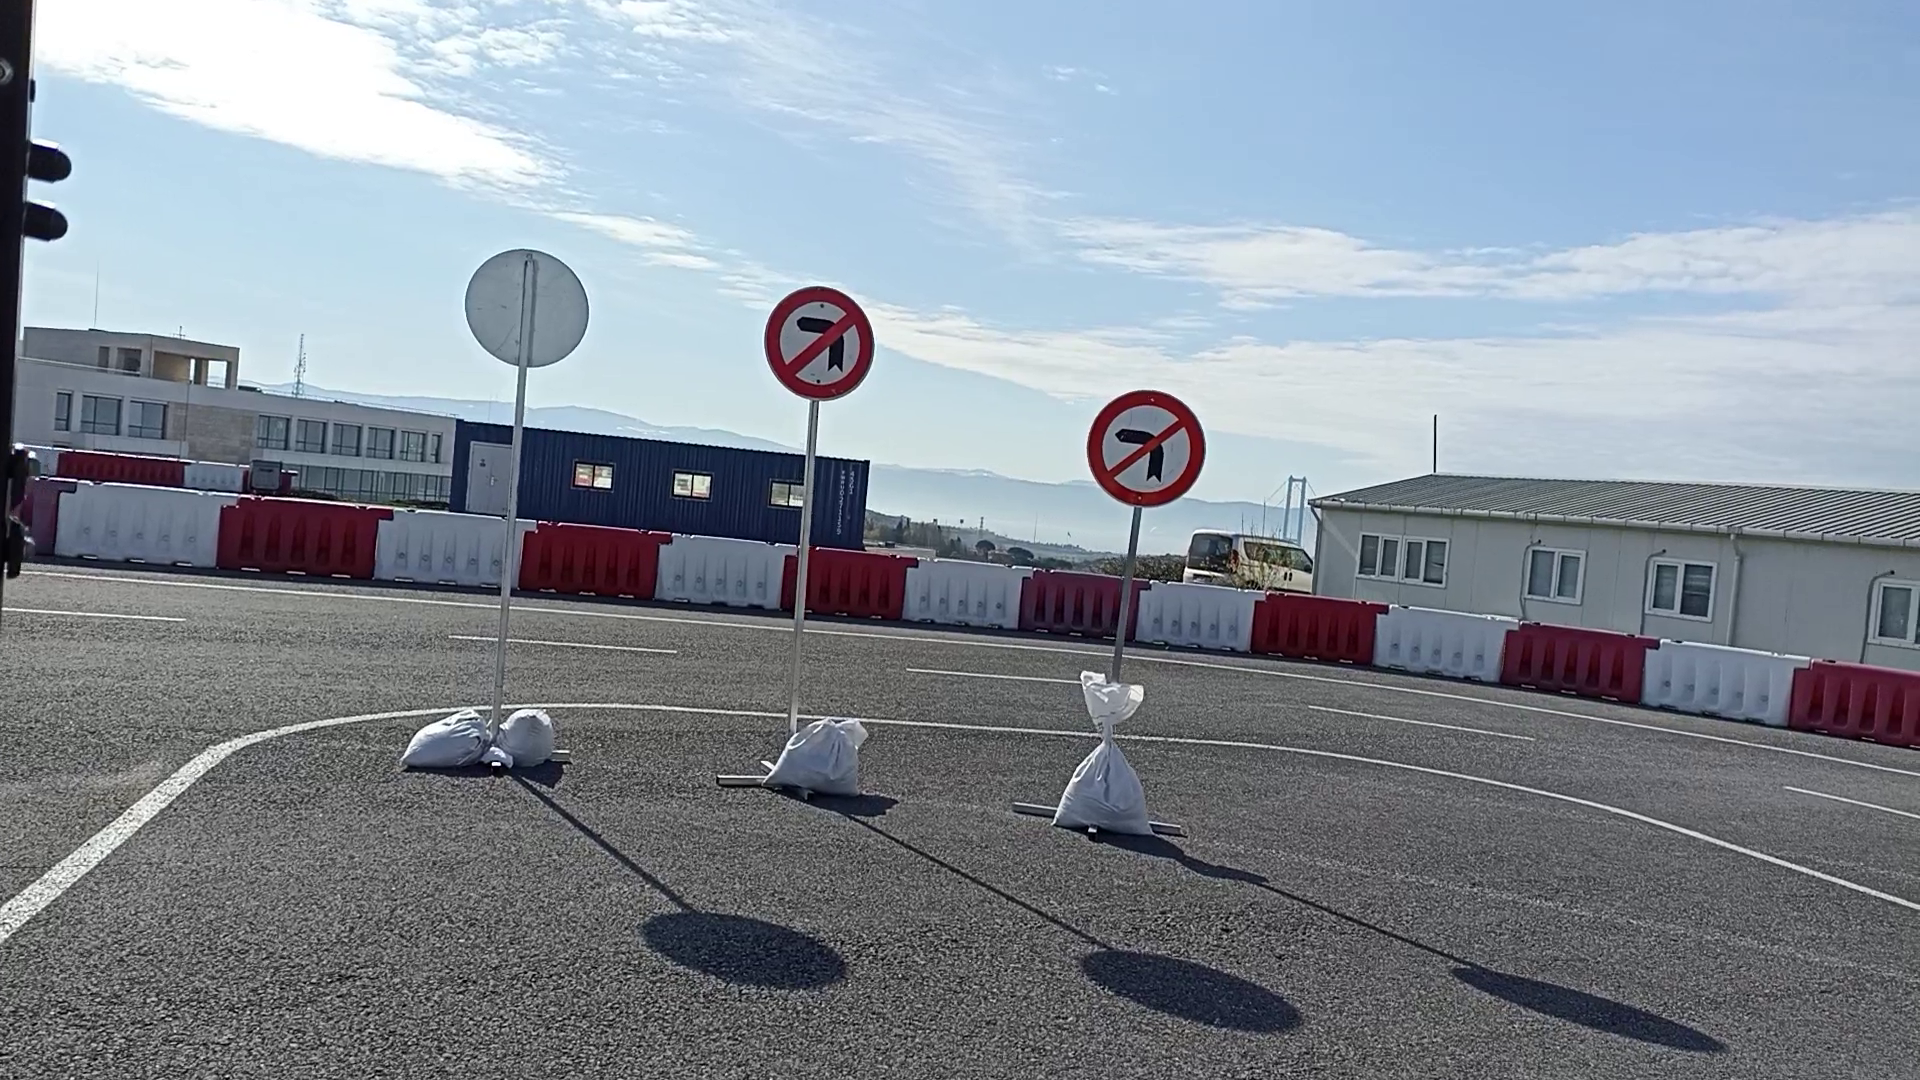noleft: (1084, 388, 1211, 509), (760, 284, 878, 402)
